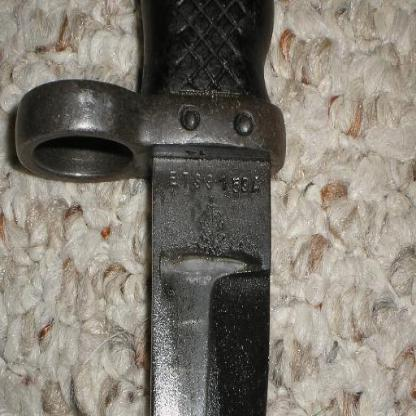knife: (15, 0, 287, 415)
